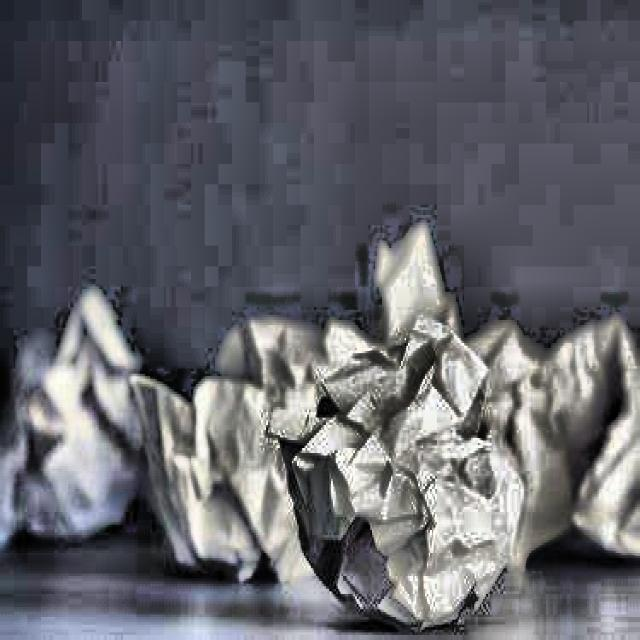Paper: (264, 303, 534, 640)
